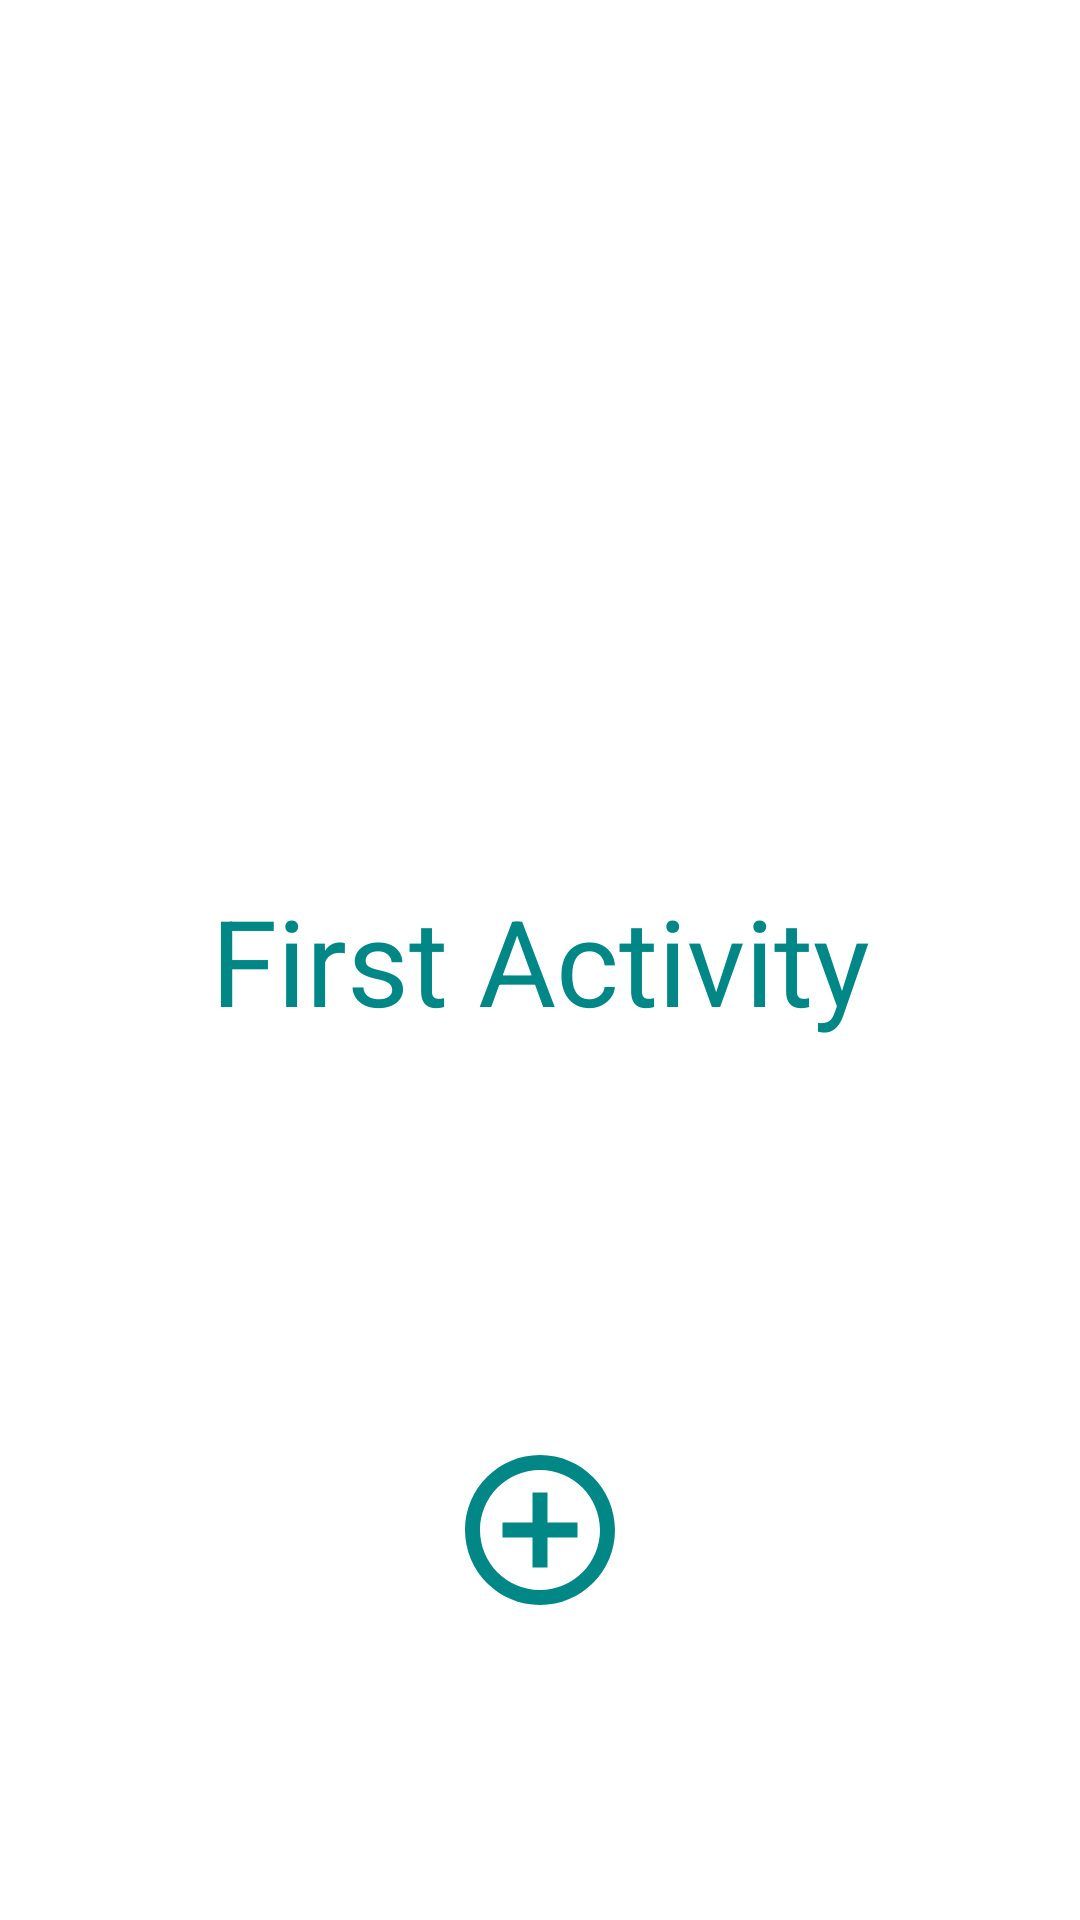

Point at icon controls on the screen. Image size 1080*1920, points as point (x, y).
add circle: point (540, 1530)
